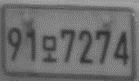1: (25, 28, 37, 62)
2: (76, 28, 94, 64)
4: (112, 30, 130, 66)
7: (59, 27, 76, 63), (95, 29, 111, 65)
9: (6, 26, 22, 62)
모: (41, 34, 58, 63)
